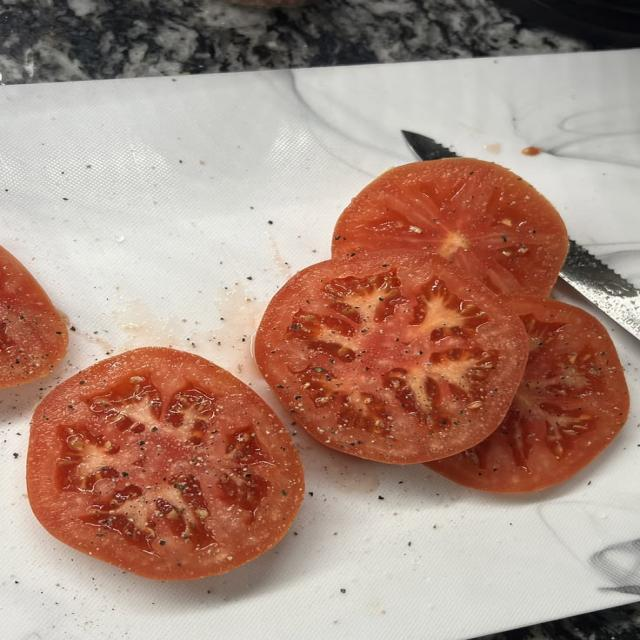sliced_tomato: (27, 348, 303, 579), (255, 251, 526, 463), (428, 297, 629, 493), (333, 158, 567, 296), (0, 247, 68, 388)
